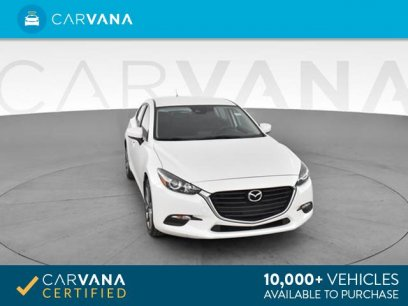Mazda3 Hatchback: (124, 94, 314, 241)
